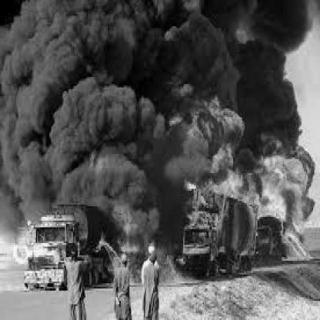Smoke: (3, 1, 185, 193)
